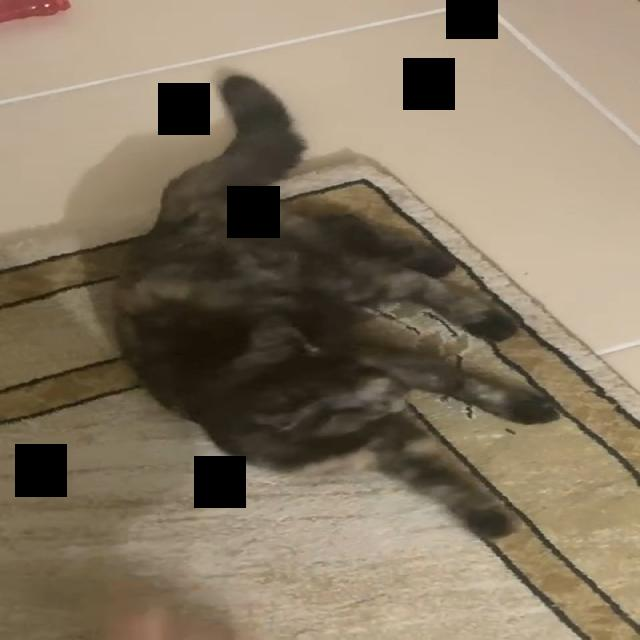authorized: (108, 72, 560, 540)
